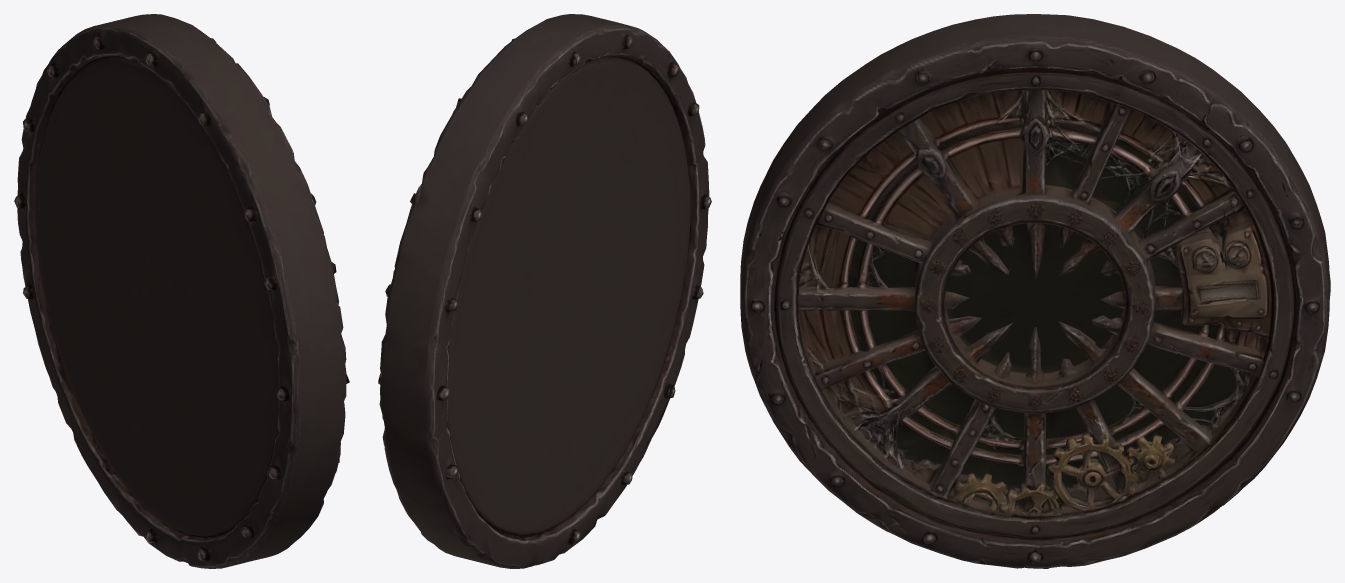
Rendered from hole.glb.
3 views of the same model, side by side, from view 1: azimuth 30°, elevation 25°; view 2: azimuth 150°, elevation 25°; view 3: azimuth 270°, elevation 25° (orthographic). The views are drawn at different scales.
Visible parts, largest first — view 1: tripo_node_8c9e8b58-4525-427e-b0b5-8d8389f3234e; view 2: tripo_node_8c9e8b58-4525-427e-b0b5-8d8389f3234e; view 3: tripo_node_8c9e8b58-4525-427e-b0b5-8d8389f3234e.
Boxes of the visible parts, left/top/right/bottom form: tripo_node_8c9e8b58-4525-427e-b0b5-8d8389f3234e: left=14, top=14, right=349, bottom=568; tripo_node_8c9e8b58-4525-427e-b0b5-8d8389f3234e: left=378, top=14, right=711, bottom=568; tripo_node_8c9e8b58-4525-427e-b0b5-8d8389f3234e: left=740, top=14, right=1330, bottom=568.
Bounding box in the file's own units: 0.1359 × 0.9767 × 0.98.
Materials: 1 (1 with a texture image).
